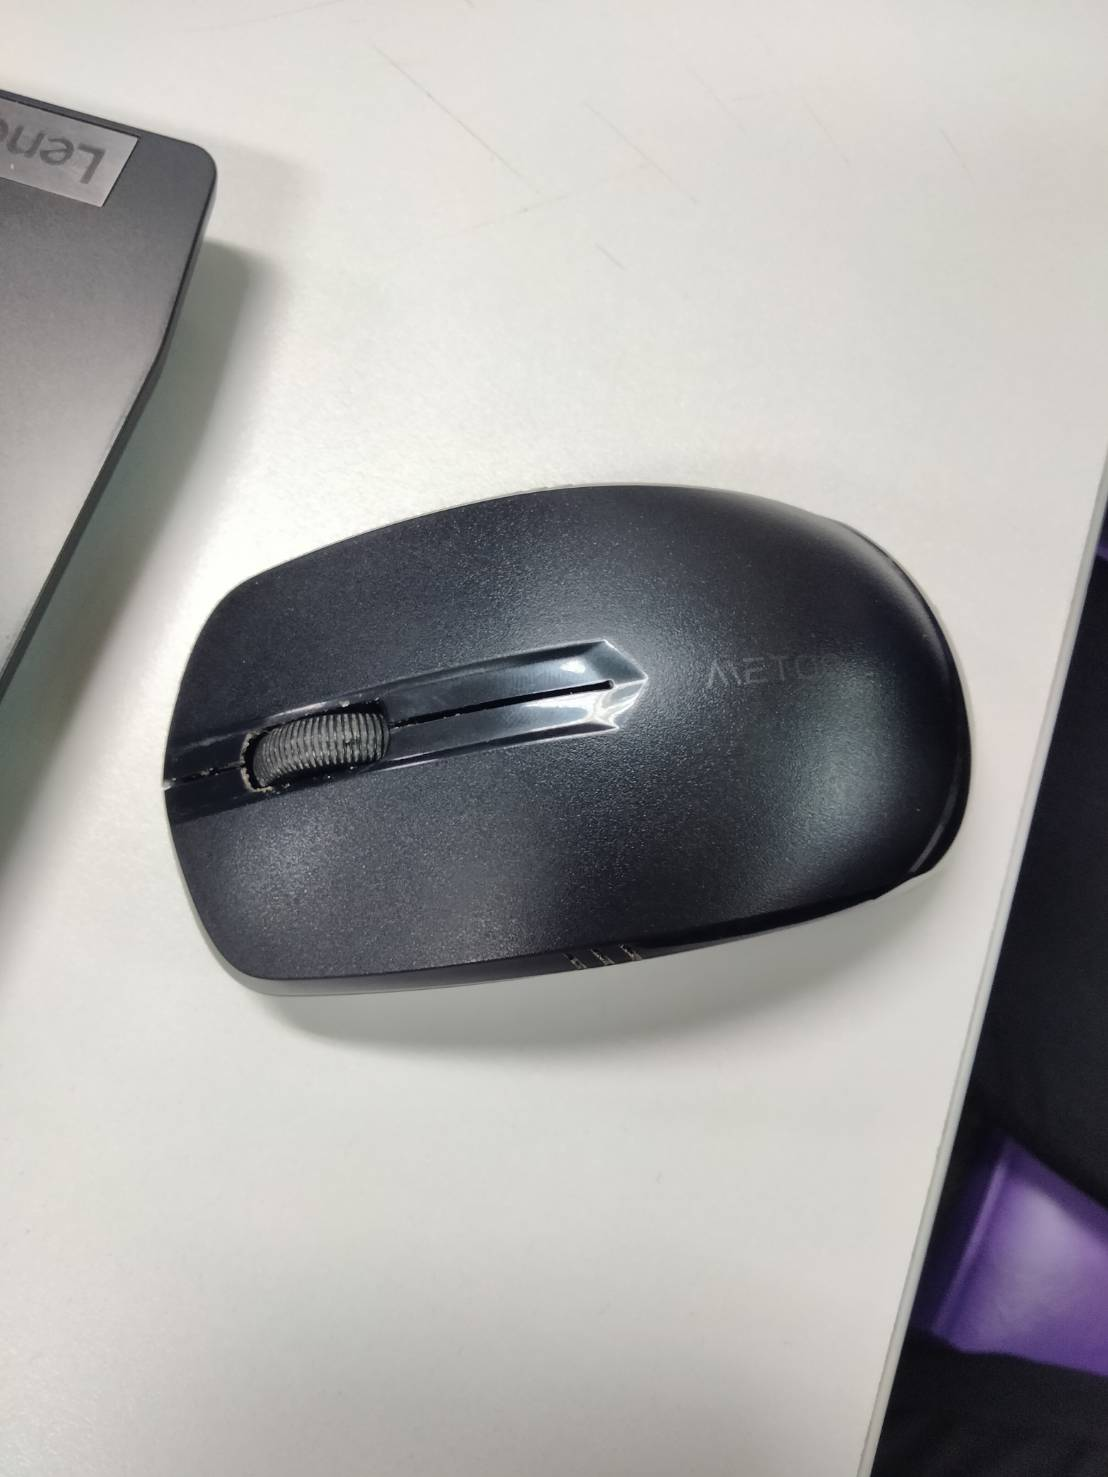mouse: (120, 455, 1023, 1003)
